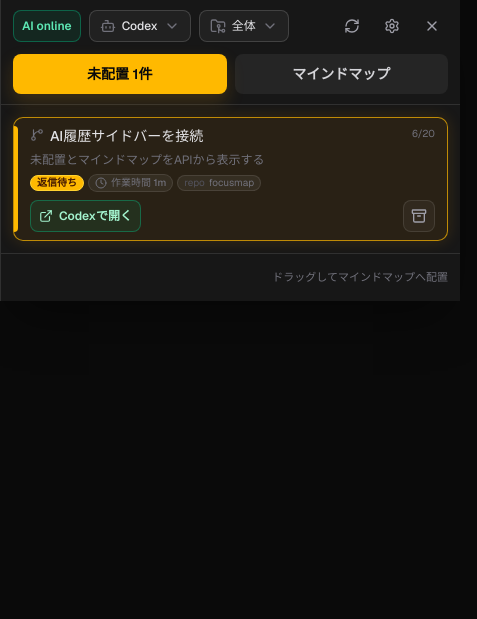
CodexChatImportSidebar › shows cached unlinked AI history prompt and answer immediately
Click the button with test id "codex-chat-import-row-history-1". click: (230, 179)
box: x1=13 y1=117 x2=448 y2=241
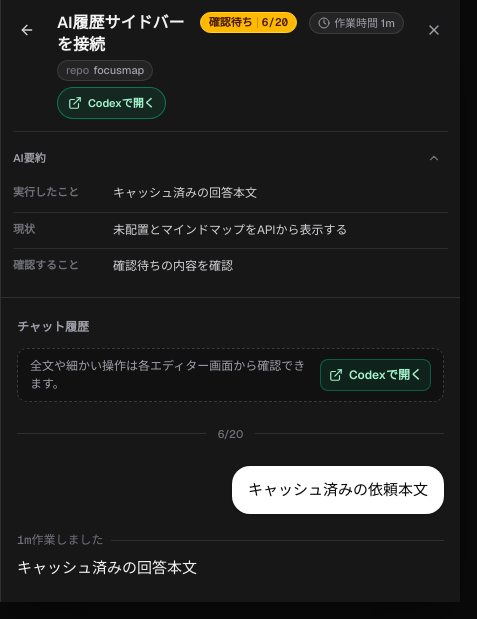
Now the text "キャッシュ済みの依頼本文" is shown, box x1=232 y1=466 x2=444 y2=514
Now the text "キャッシュ済みの回答本文" next to "実行したこと" is shown, box x1=113 y1=185 x2=257 y2=201
